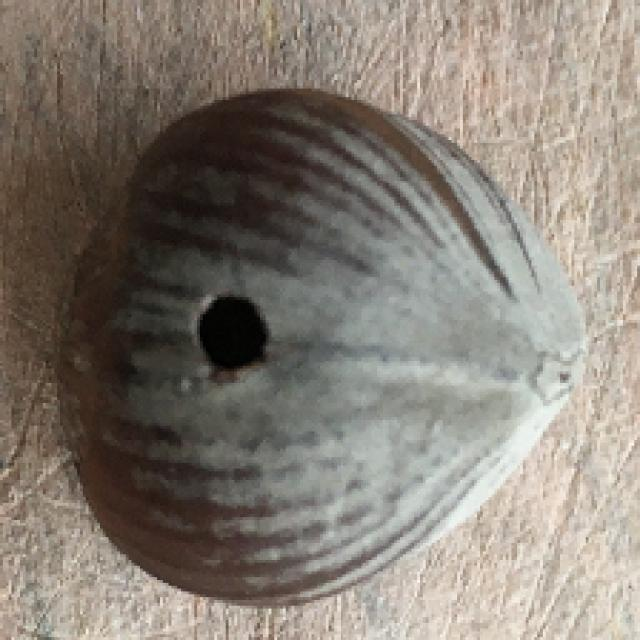damagedHazelnut: (55, 81, 590, 623)
